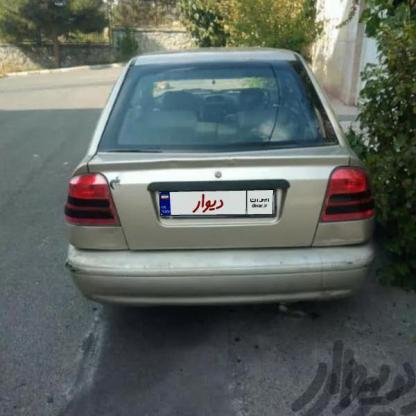Car: (58, 48, 376, 317)
